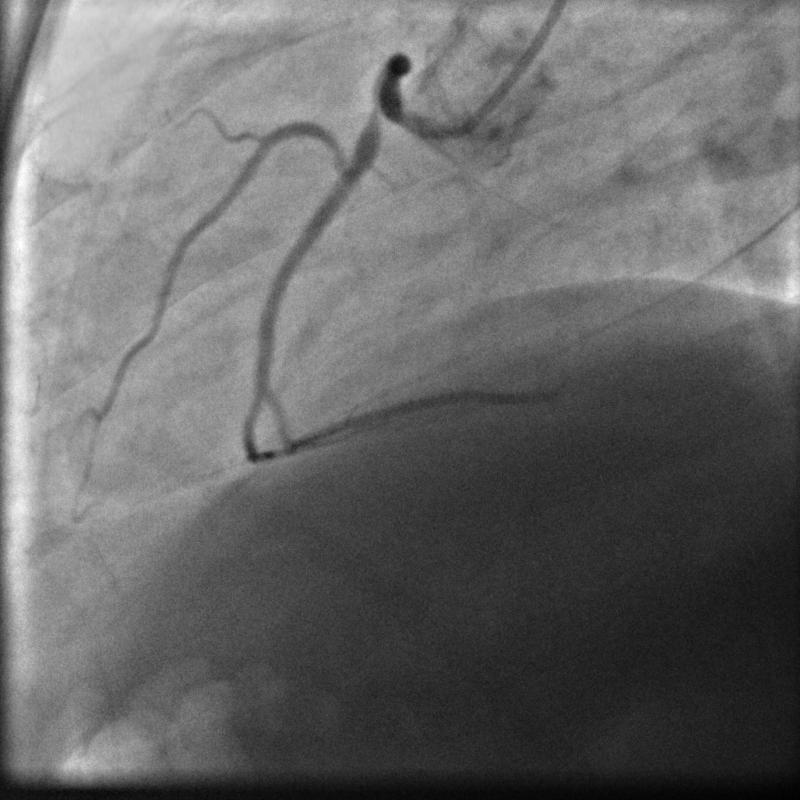Stenosis: (363, 98, 386, 126)
